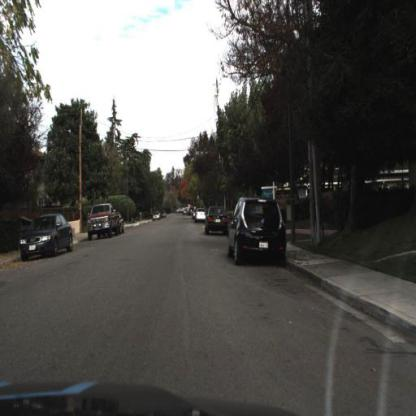car: (225, 187, 293, 273), (16, 207, 78, 263), (82, 196, 116, 244), (202, 200, 229, 241), (192, 204, 207, 226)
